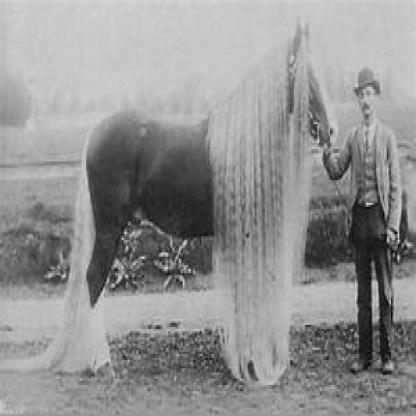horse: (51, 23, 340, 376)
